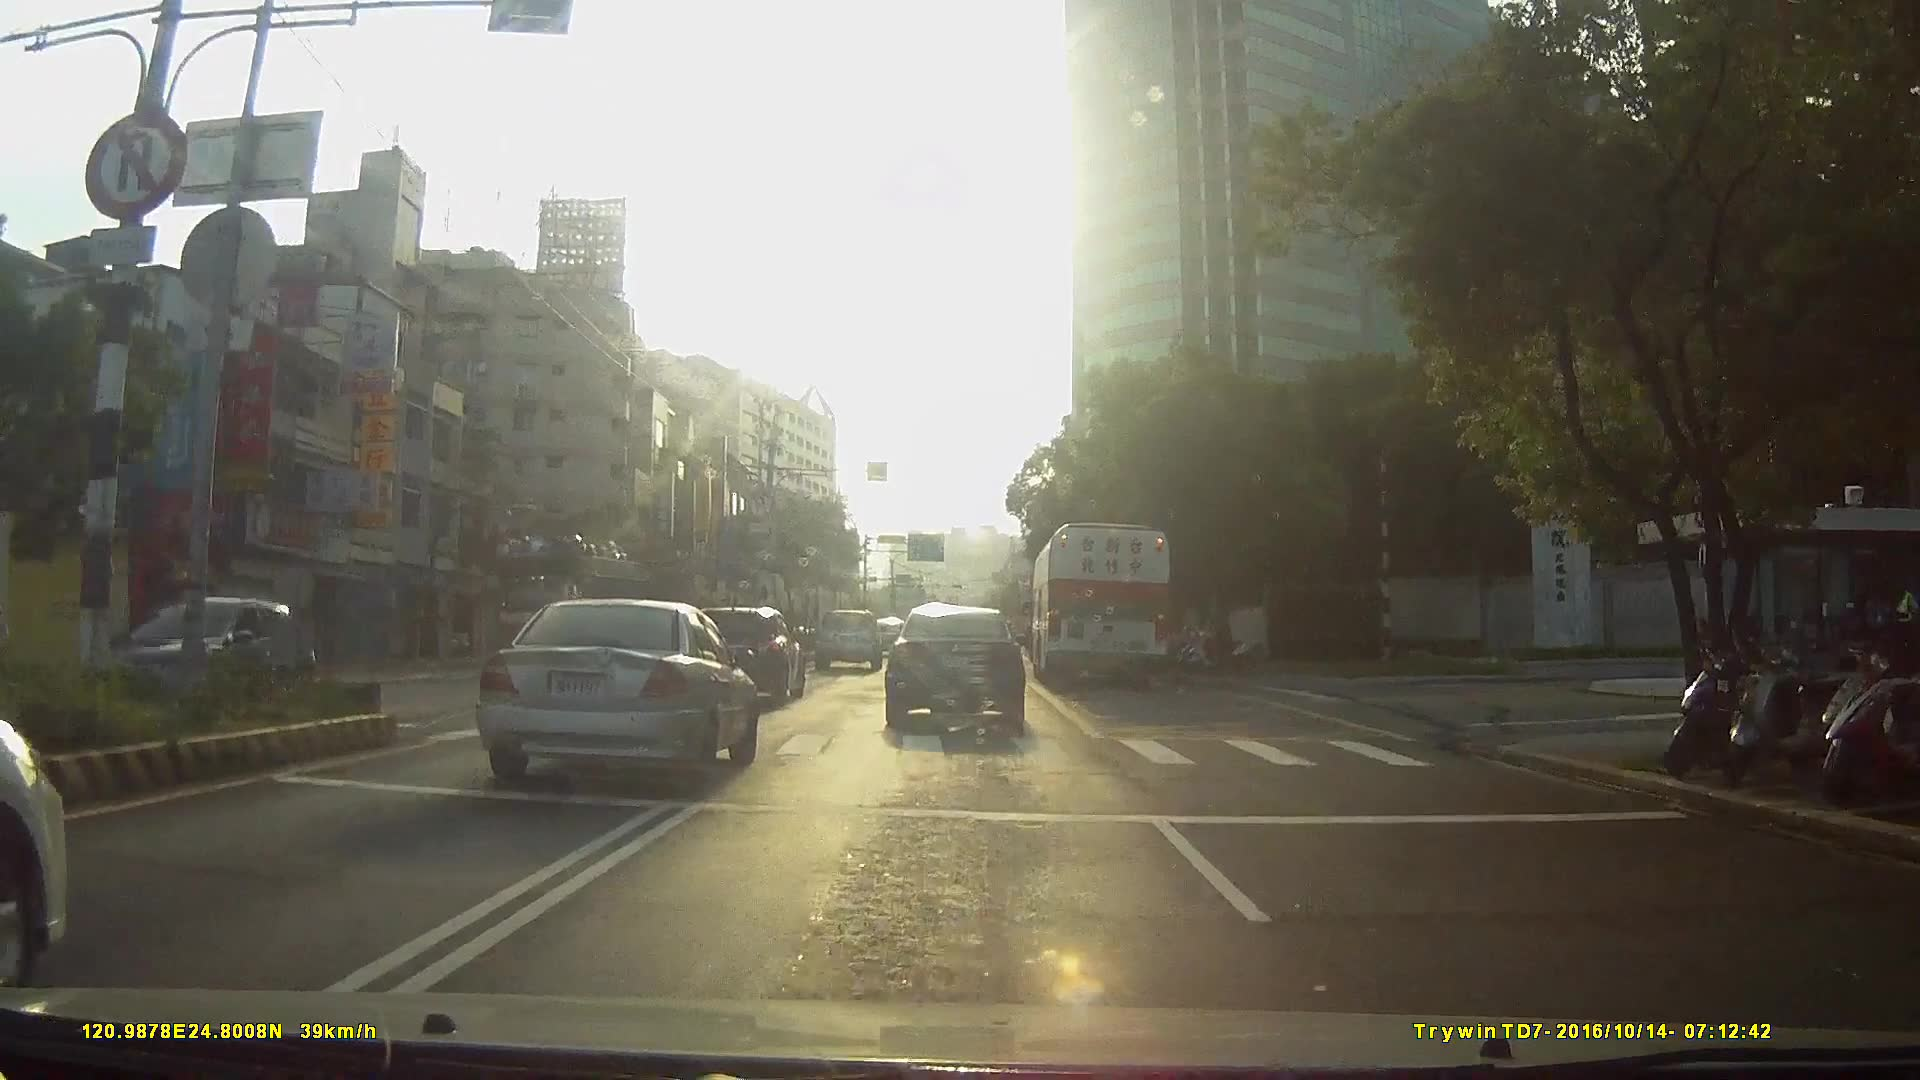vehicle: (465, 596, 758, 793), (91, 591, 326, 713), (1029, 518, 1174, 690), (882, 601, 1025, 733), (684, 607, 804, 707), (814, 607, 882, 673)
